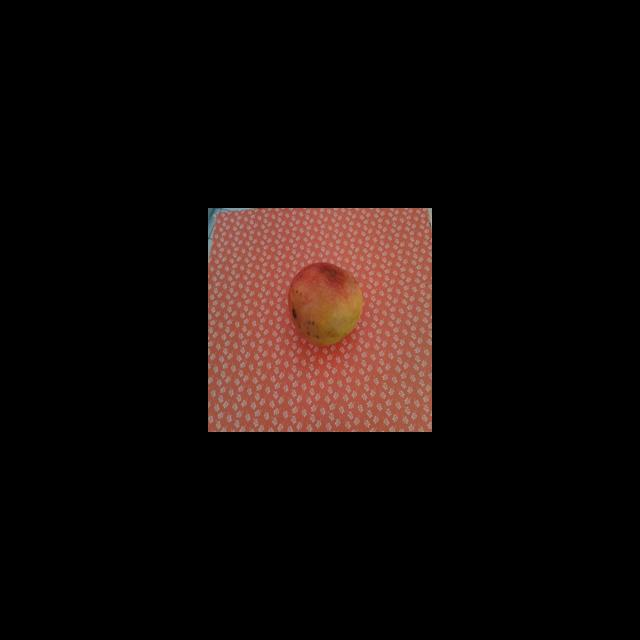Mango: (287, 261, 363, 346)
